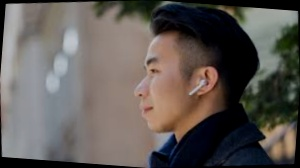earphone: (184, 63, 222, 99)
